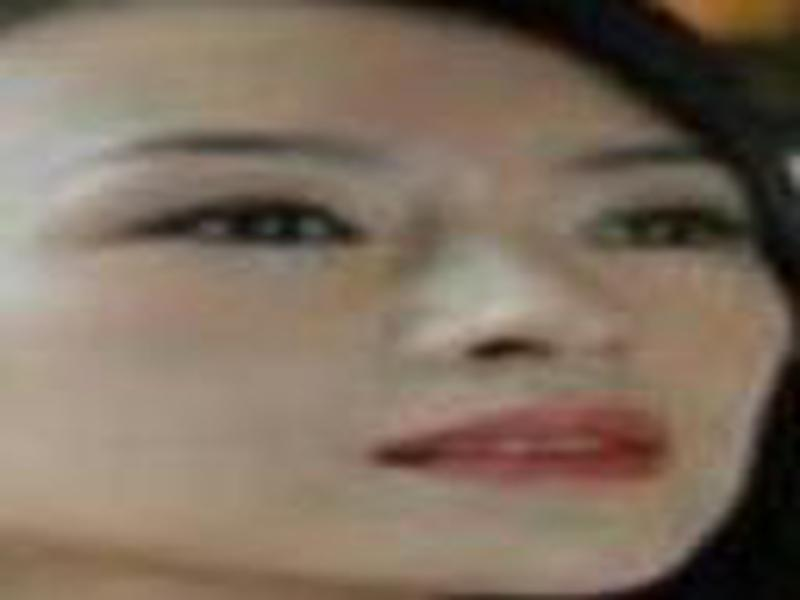without_mask: (12, 18, 791, 589)
